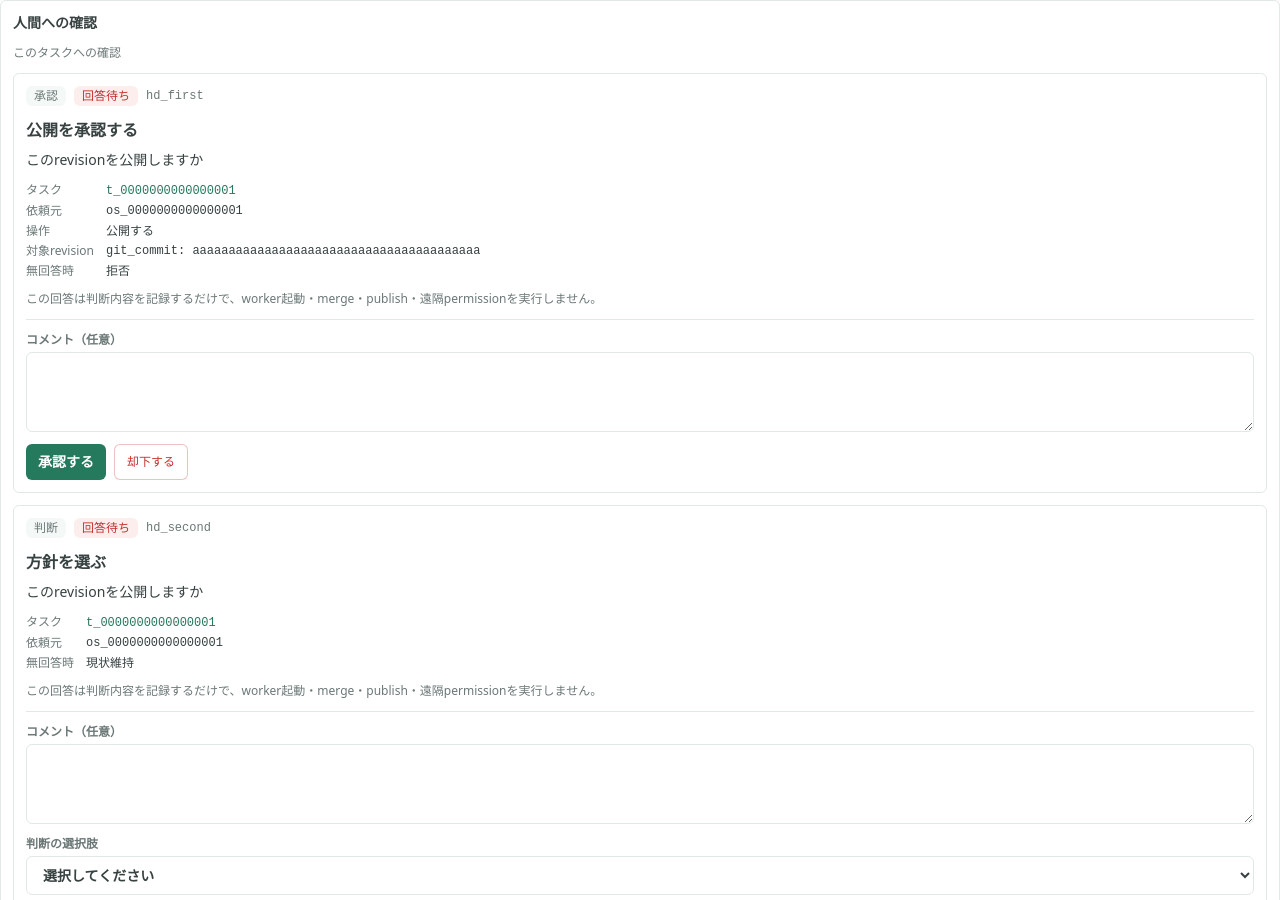
Test: HumanDecisionsPanel › task/tenant scopeの全依頼を実hookで取得し、明示操作した依頼だけ正しいPOSTを行う
Click the button "承認する". click: click(66, 462)
box: [26,444,106,480]
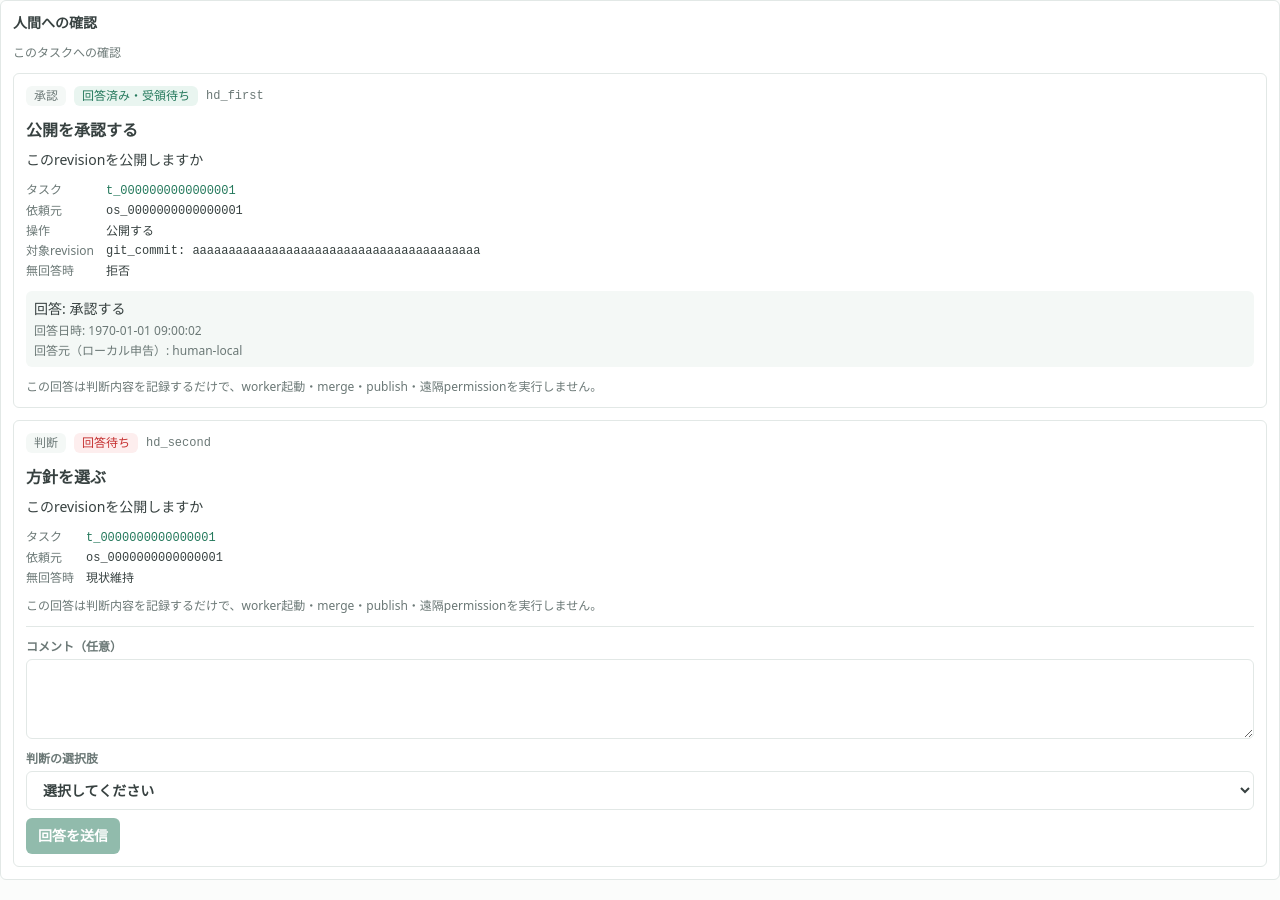
Now the text "回答済み・受領待ち" is shown, box [74,86,198,106]
